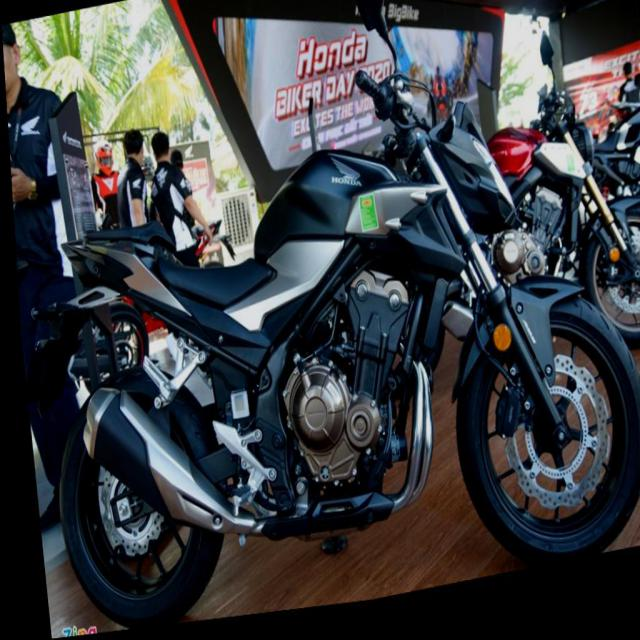CB500F: (24, 99, 639, 638)
